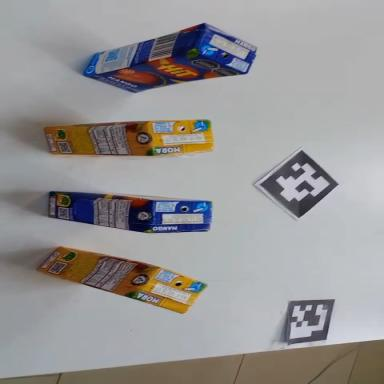HIT-MANGO: (78, 15, 260, 101), (47, 191, 212, 237)
HIT-MORA: (36, 237, 208, 318), (45, 119, 213, 157)
cara_F: (87, 43, 245, 102)
